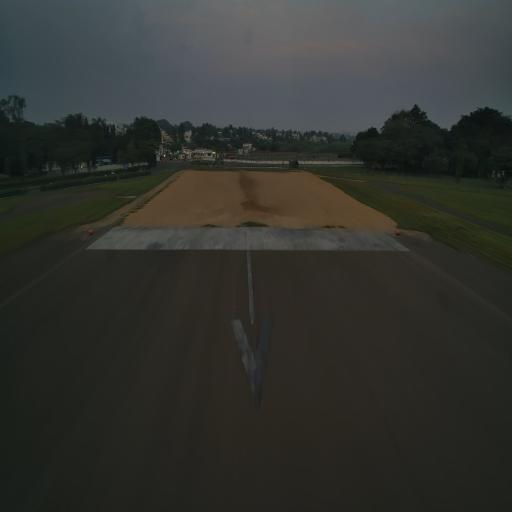on: (86, 226, 94, 236), (396, 225, 401, 236)
